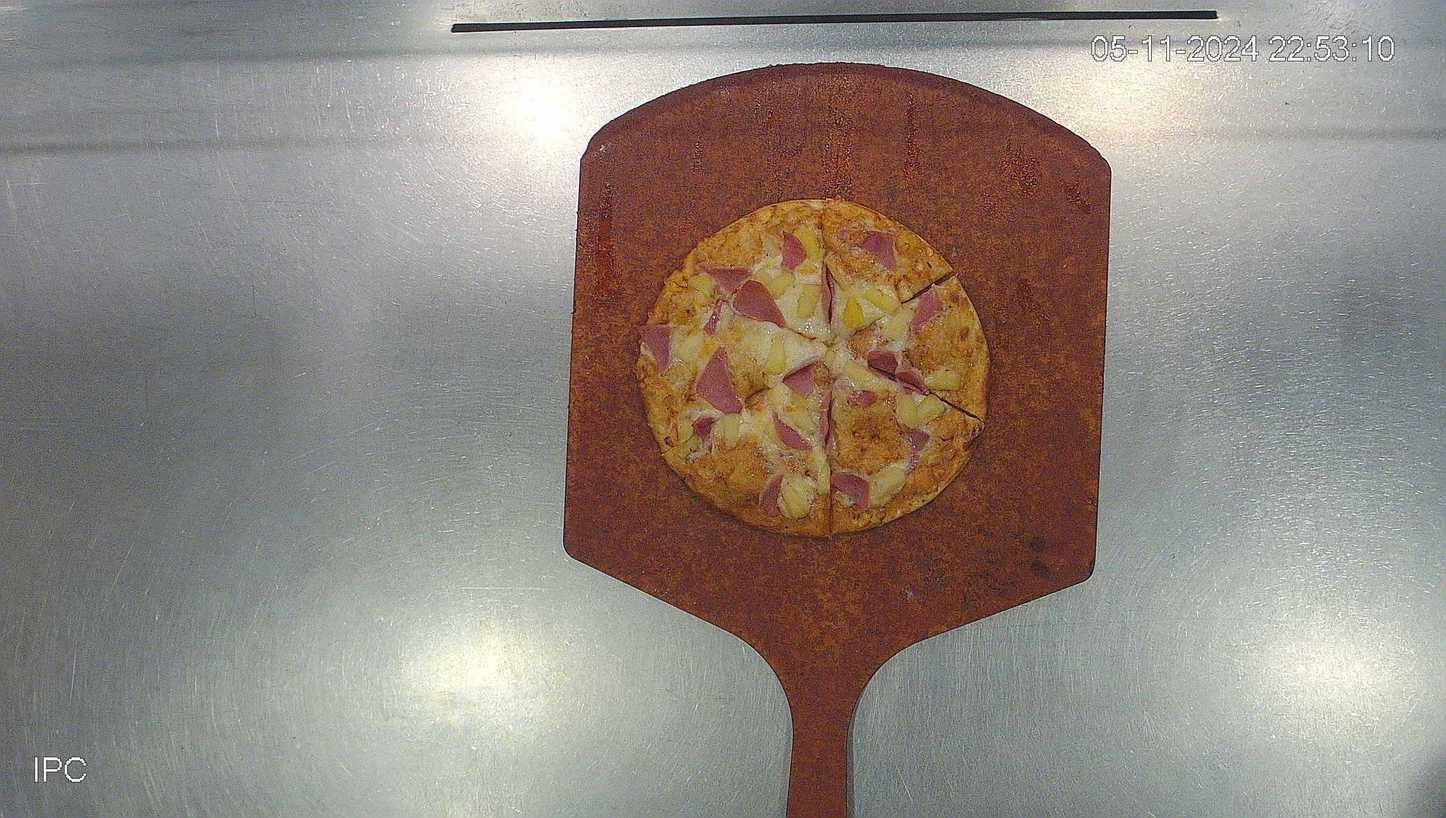manager_choice: (634, 194, 991, 539)
